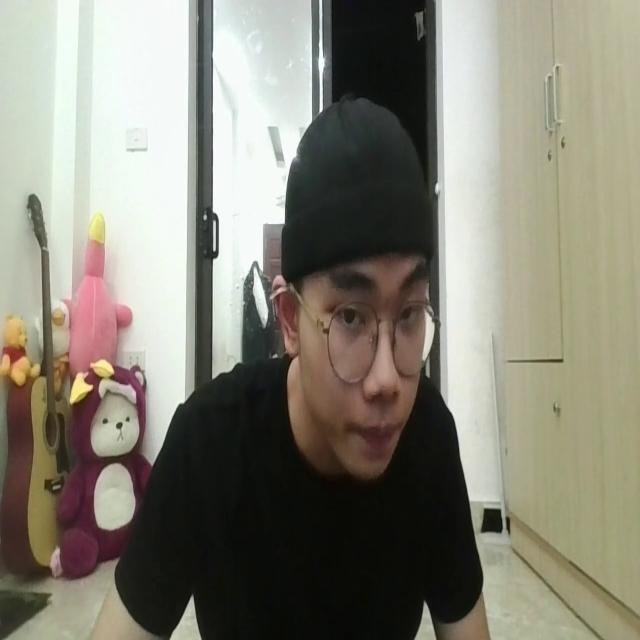student: (81, 95, 489, 640)
